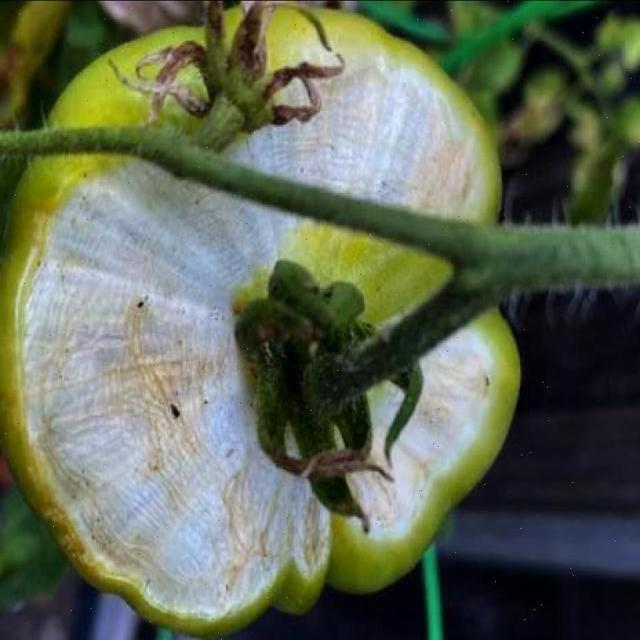Sunscald Fruit: (9, 31, 335, 412)
